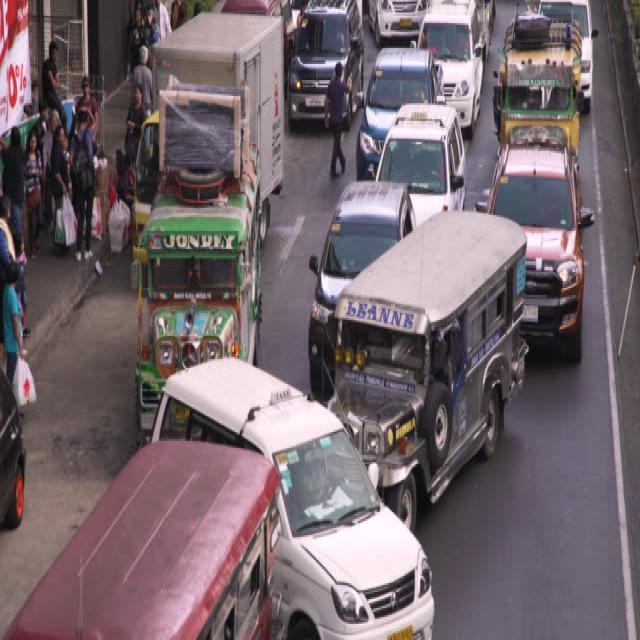Vehicle: (159, 368, 435, 640), (335, 228, 527, 507), (125, 12, 286, 262), (131, 183, 260, 405), (309, 185, 410, 403), (494, 150, 593, 372), (503, 16, 577, 160), (357, 55, 433, 173), (292, 0, 361, 123), (420, 3, 485, 122), (372, 118, 462, 196)
